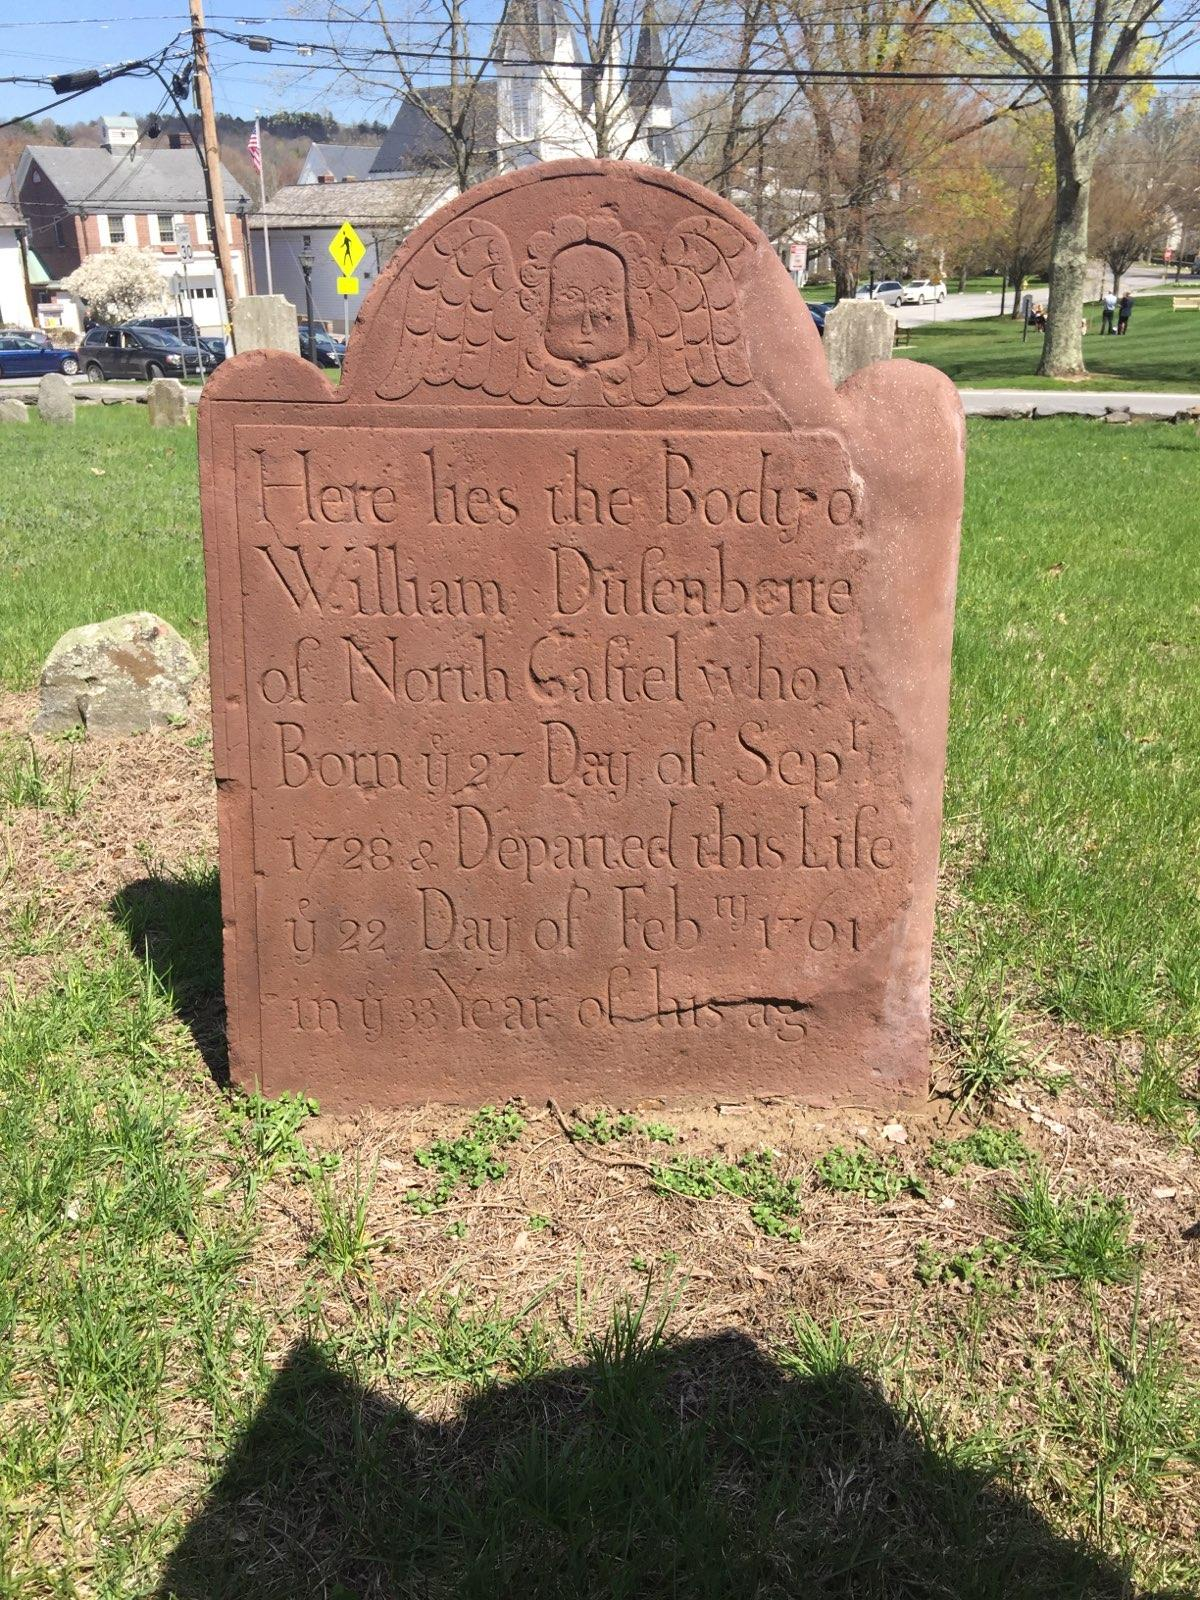upright: (202, 166, 961, 1136)
